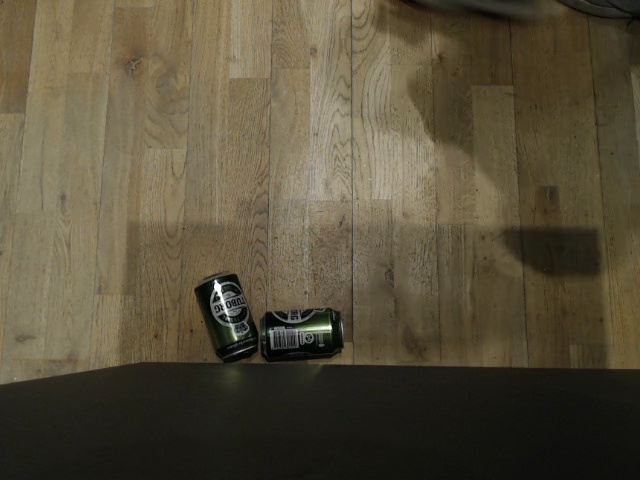beer: (193, 269, 258, 363), (259, 307, 344, 362)
